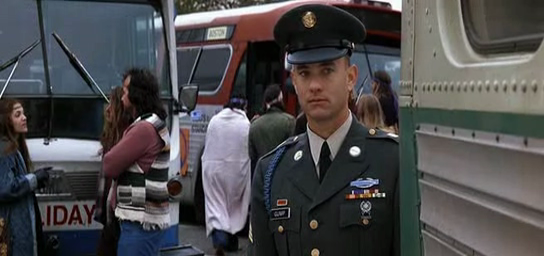face: (292, 57, 346, 123), (11, 102, 28, 134), (118, 74, 132, 110)
mcu: (1, 1, 544, 256)
person: (250, 2, 401, 256), (98, 66, 183, 256), (200, 88, 253, 256), (1, 97, 53, 256), (247, 84, 296, 184), (366, 70, 398, 136), (352, 93, 394, 134)
